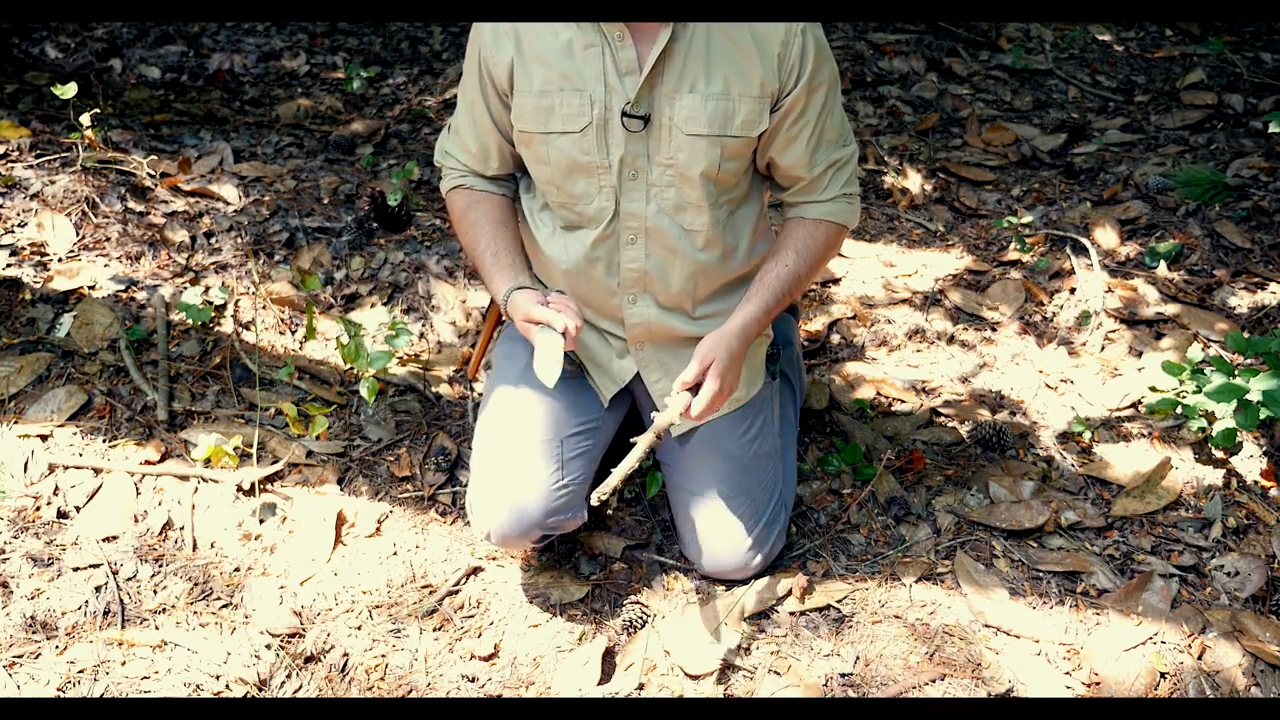knife: (513, 281, 585, 405)
